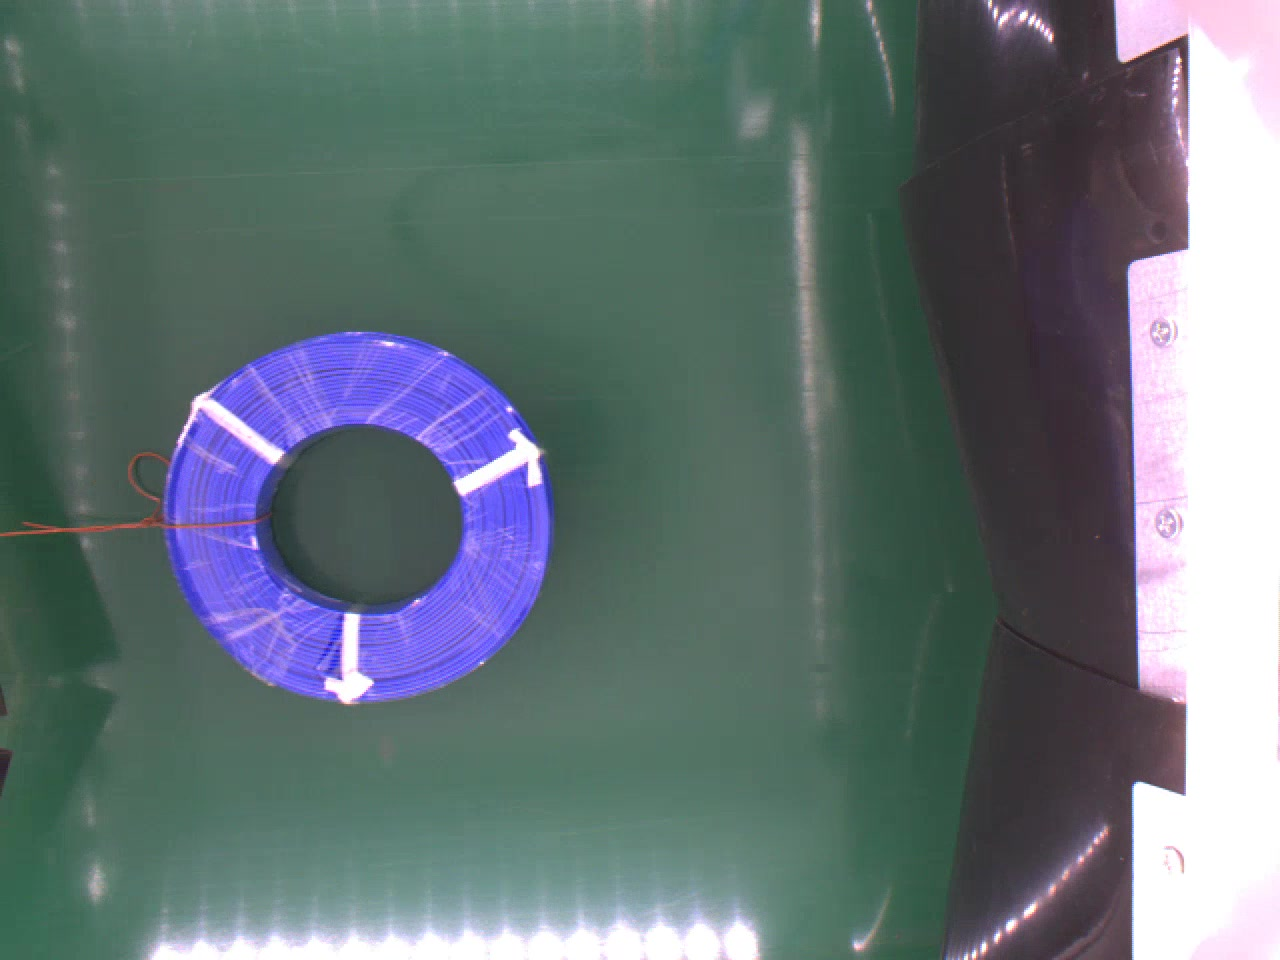blue: (160, 325, 555, 707)
